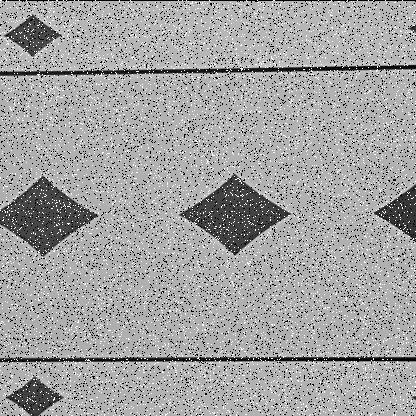3d: (0, 1, 81, 73), (0, 358, 86, 415)
